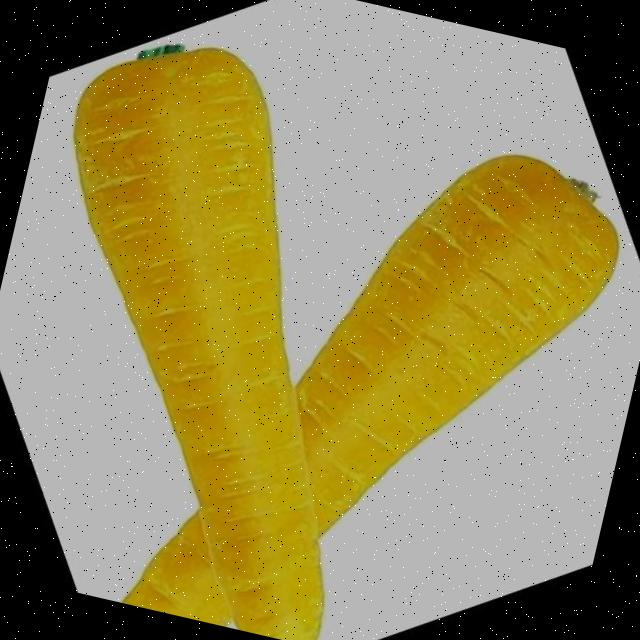carrot: (122, 155, 617, 626), (75, 48, 320, 640)
